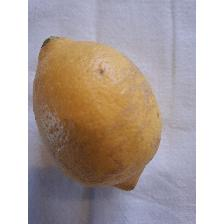Zitrone: (32, 34, 164, 194)
